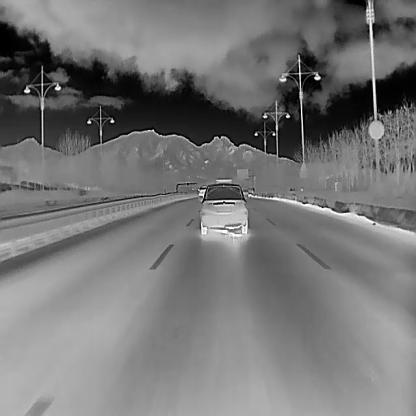car: (198, 181, 247, 234), (196, 182, 207, 196)
